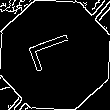L_E: (26, 32, 84, 78)
